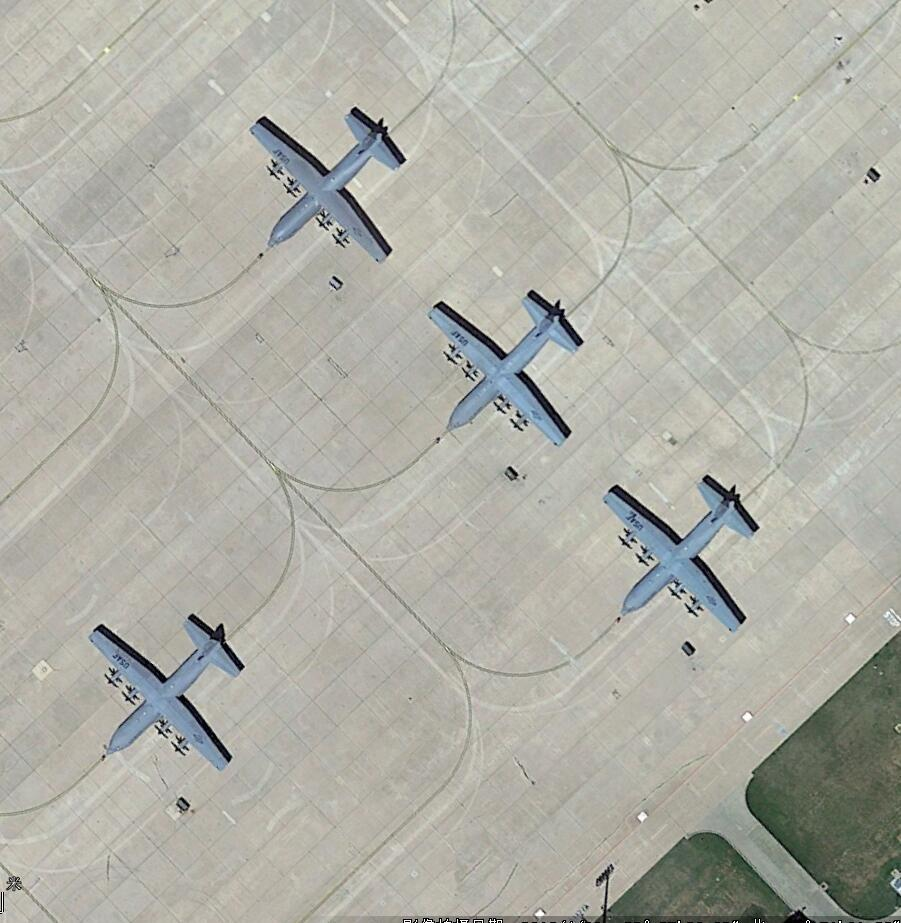A2: (245, 99, 410, 276), (418, 285, 587, 453), (83, 609, 248, 778), (598, 471, 762, 640)
